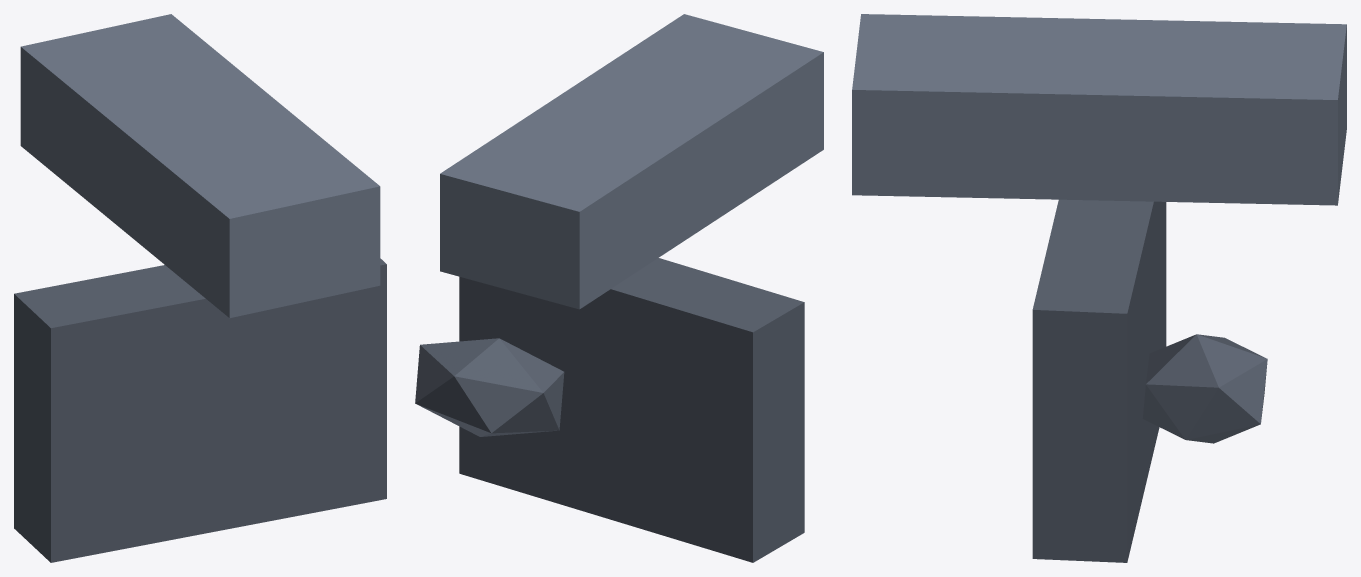
The model's file is EXTW_WestMarker_00.glb.
The picture shows the model from 3 angles, left to right: view 1: azimuth 30°, elevation 25°; view 2: azimuth 150°, elevation 25°; view 3: azimuth 270°, elevation 25°; orthographic projection. The views are drawn at different scales.
Visible parts, largest first — view 1: EXTW_WestMarker_00; view 2: EXTW_WestMarker_00; view 3: EXTW_WestMarker_00.
Boxes of the visible parts, box(x1,y1,x2,y2) form: EXTW_WestMarker_00: box(14, 14, 386, 562); EXTW_WestMarker_00: box(415, 14, 823, 562); EXTW_WestMarker_00: box(852, 14, 1346, 562).
Size of the model in its own units: 0.7543 by 0.88 by 0.9358.
